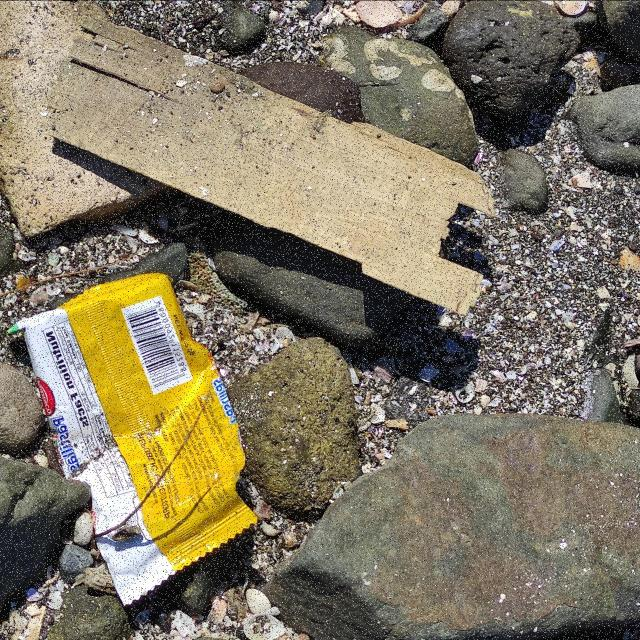plastic_waste: (12, 276, 256, 607)
wood_waste: (51, 14, 502, 315)
